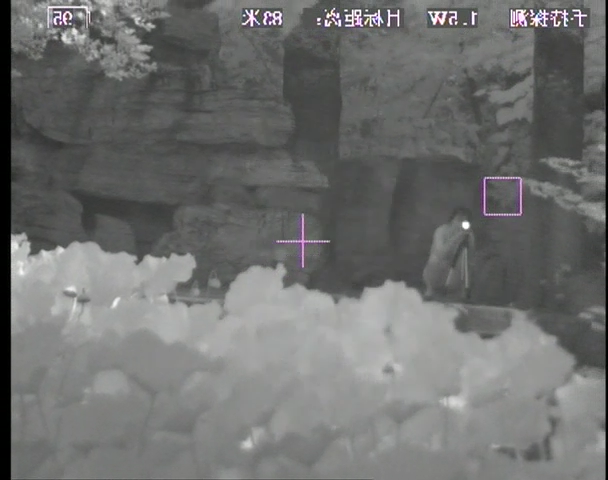my: (461, 220, 473, 231)
